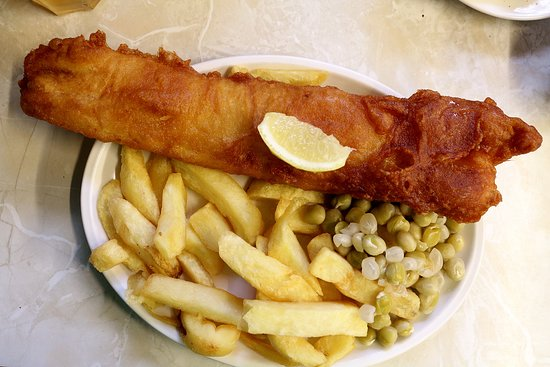boiled potatoes: (130, 196, 330, 307)
